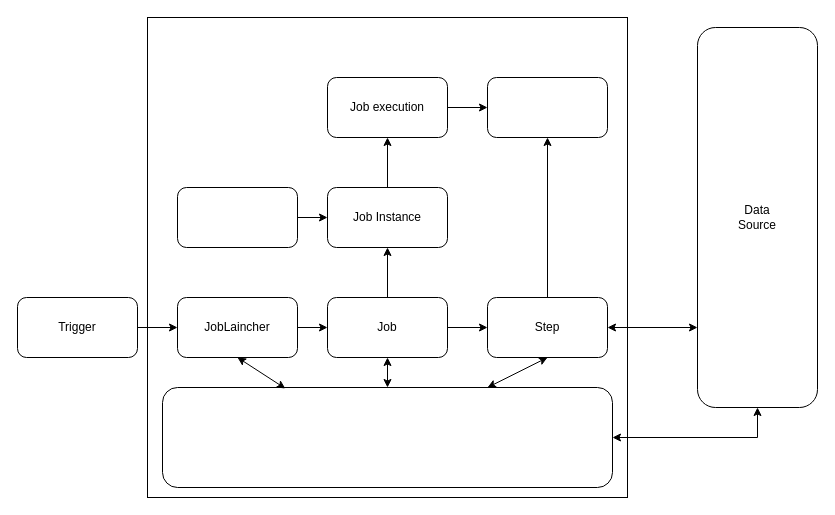
The diagram is 835 pixels wide and 515 high, and some of its shapes have lost their labels. Here are the shapes that lost their labels. From the top down, the centre of each, then its label:
the point at 547,107: Step execution
the point at 237,217: Job parameters
the point at 387,437: Job repository
